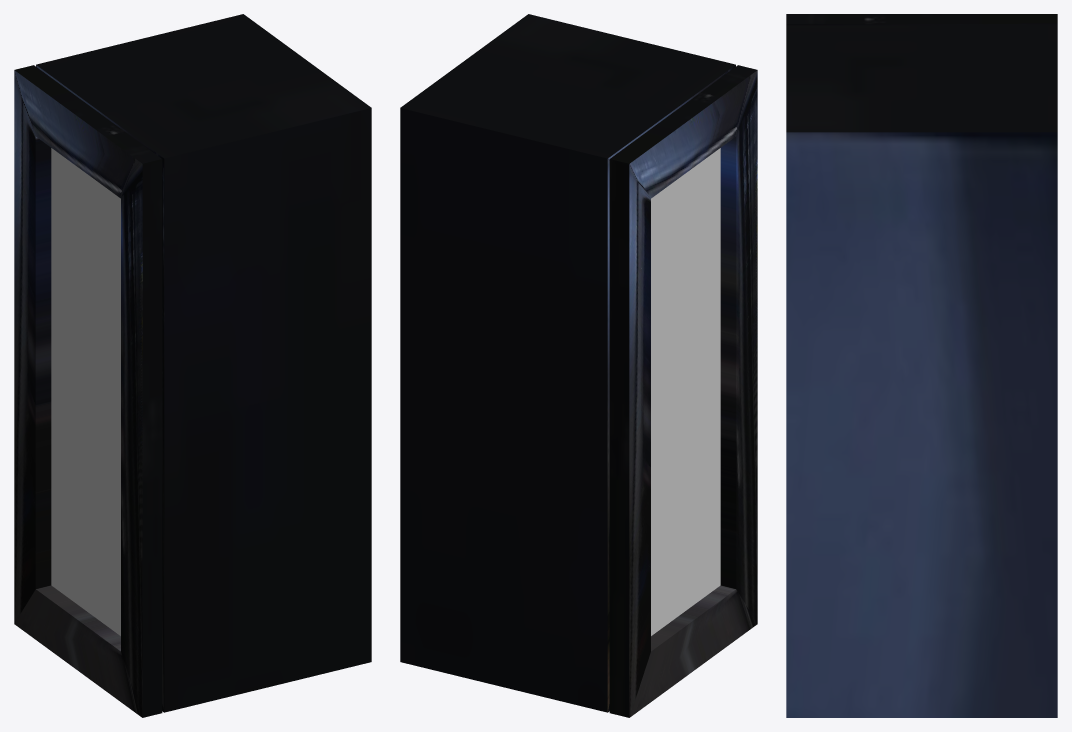
The model's file is Fridge.fbx.
3 views of the same model, side by side, from view 1: azimuth 30°, elevation 25°; view 2: azimuth 150°, elevation 25°; view 3: azimuth 270°, elevation 25° (orthographic). The views are drawn at different scales.
Parts seen in each view (by area): view 1: Cube.016, Cube.017, Cube.018; view 2: Cube.016, Cube.017, Cube.018; view 3: Cube.016, Cube.017.
Part boxes in pixels (bbox=[...]): Cube.016: bbox=[36, 14, 371, 712]; Cube.017: bbox=[14, 65, 162, 717]; Cube.018: bbox=[51, 148, 120, 635]; Cube.016: bbox=[400, 14, 735, 712]; Cube.017: bbox=[609, 65, 757, 717]; Cube.018: bbox=[651, 148, 720, 635]; Cube.016: bbox=[786, 25, 1057, 717]; Cube.017: bbox=[786, 14, 1057, 25].
Size of the model in its own units: 0.88 by 0.853 by 2.03.
